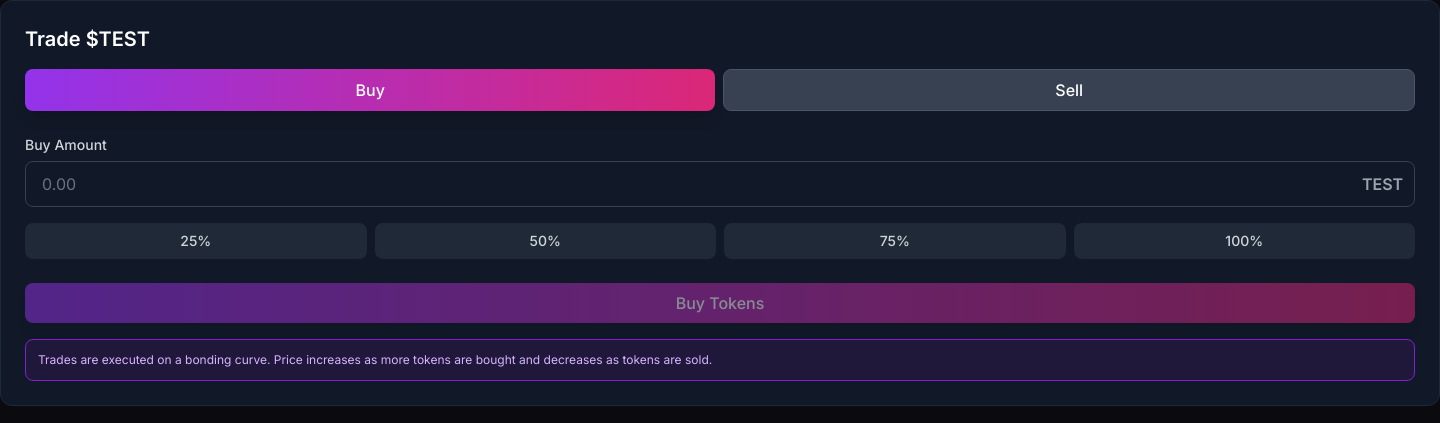
Scenario: TradingInterface › Trade Type Selection › should switch back to buy mode when buy button clicked
This screenshot has width=1440, height=423.
Click the button "Sell": (1069, 90) [724,69,1415,111]
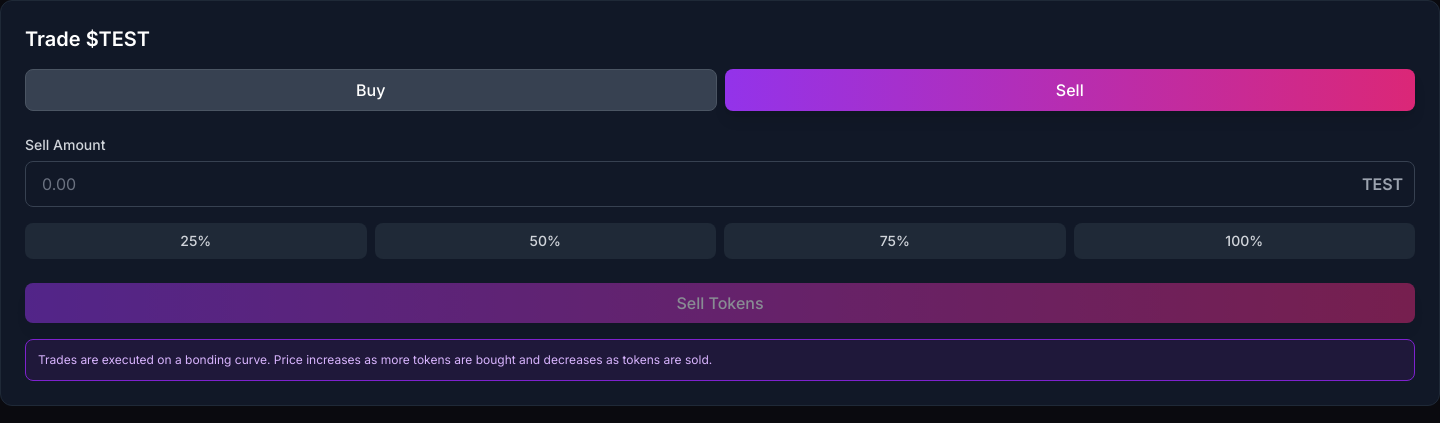
Click the button "Buy": (371, 90) [25,69,716,111]
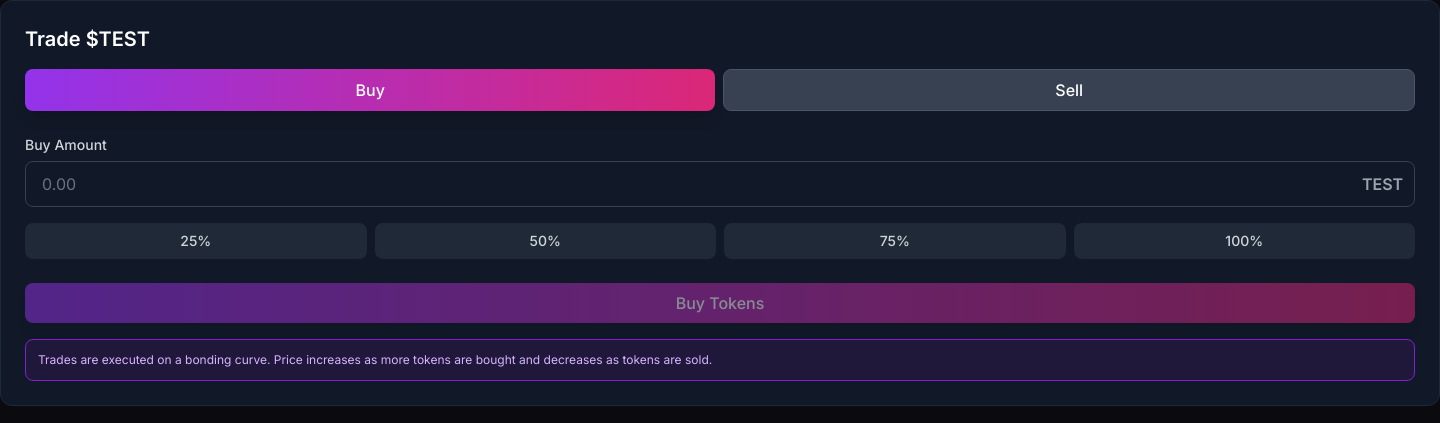
Expected: the text "Buy Amount" is shown, [25,136,107,153]
